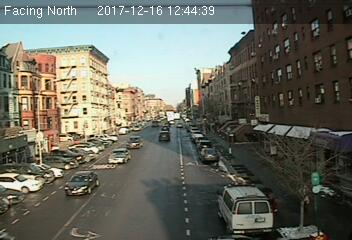car: (64, 171, 98, 194), (107, 146, 132, 164), (200, 147, 219, 161), (126, 136, 143, 148), (159, 131, 172, 142)
police: (217, 182, 275, 236)
